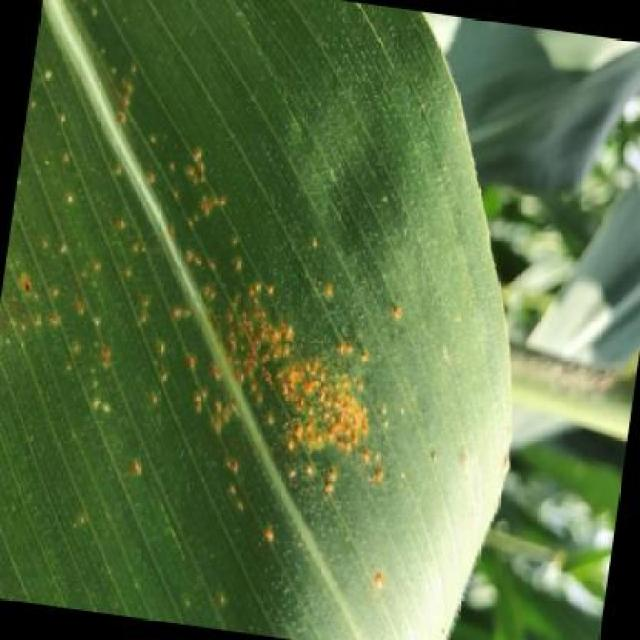Corn_Rust: (52, 24, 527, 602)
